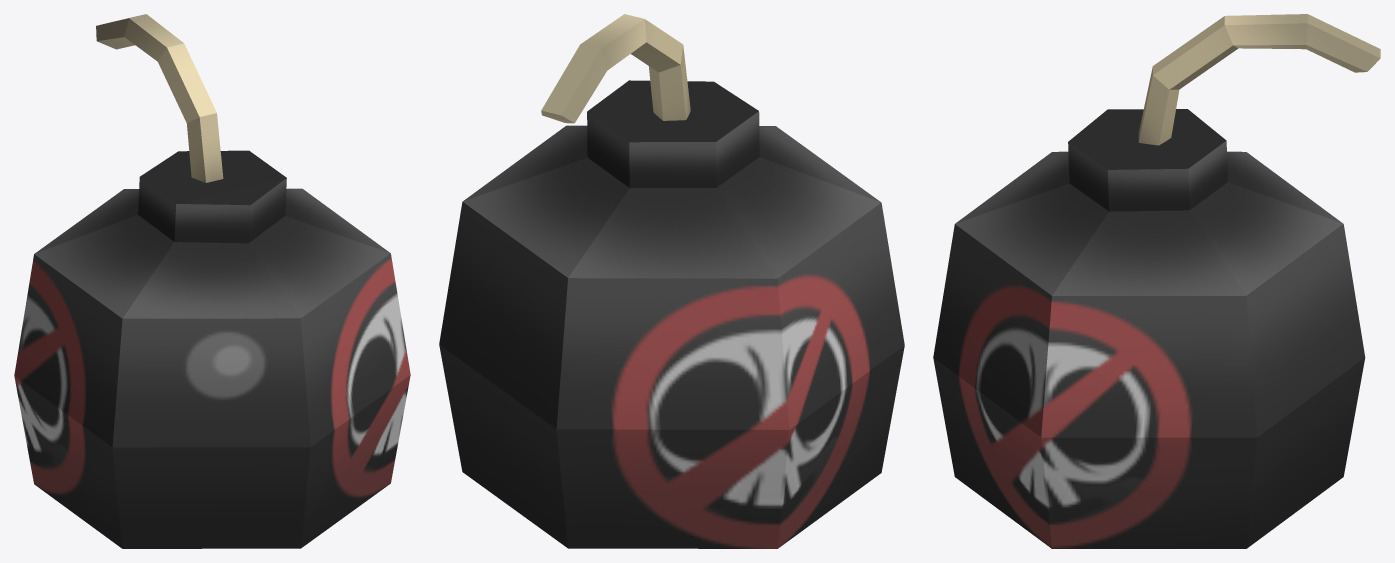
File: M_ennemiMissileBomb.FBX
3 views of the same model, side by side, from view 1: azimuth 30°, elevation 25°; view 2: azimuth 150°, elevation 25°; view 3: azimuth 270°, elevation 25° (orthographic). The views are drawn at different scales.
Visible parts, largest first — view 1: emissile_bomb; view 2: emissile_bomb; view 3: emissile_bomb.
Part boxes in pixels (x1,y1,x2,y2): emissile_bomb: (14, 14, 410, 548); emissile_bomb: (439, 14, 904, 548); emissile_bomb: (933, 14, 1380, 548).
Bounding box in the file's own units: 24.22 × 28.63 × 35.83.
